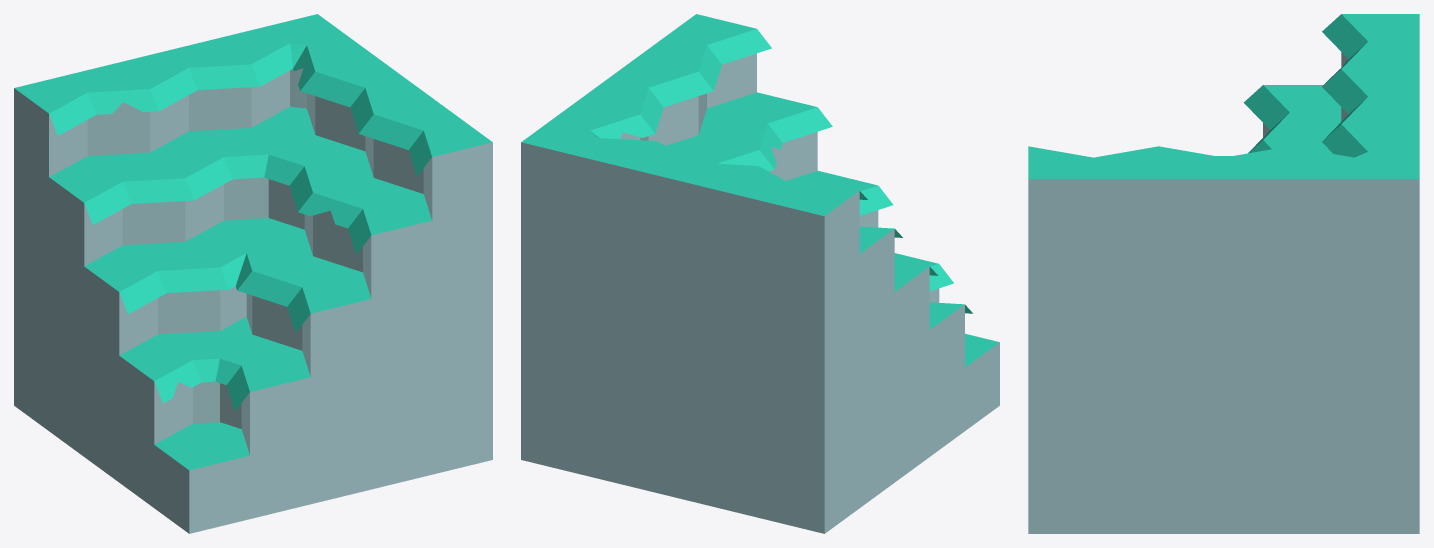
Rendered from cliff_stepsCornerInner_stone.fbx.
3 views of the same model, side by side, from view 1: azimuth 30°, elevation 25°; view 2: azimuth 150°, elevation 25°; view 3: azimuth 270°, elevation 25° (orthographic). The views are drawn at different scales.
Parts seen in each view (by area): view 1: cliff_stepsCornerInner_stone; view 2: cliff_stepsCornerInner_stone; view 3: cliff_stepsCornerInner_stone.
Boxes of the visible parts, left/top/right/bottom form: cliff_stepsCornerInner_stone: left=14, top=14, right=492, bottom=533; cliff_stepsCornerInner_stone: left=521, top=14, right=999, bottom=533; cliff_stepsCornerInner_stone: left=1028, top=14, right=1419, bottom=533.
Size of the model in its own units: 10 by 10 by 10.
